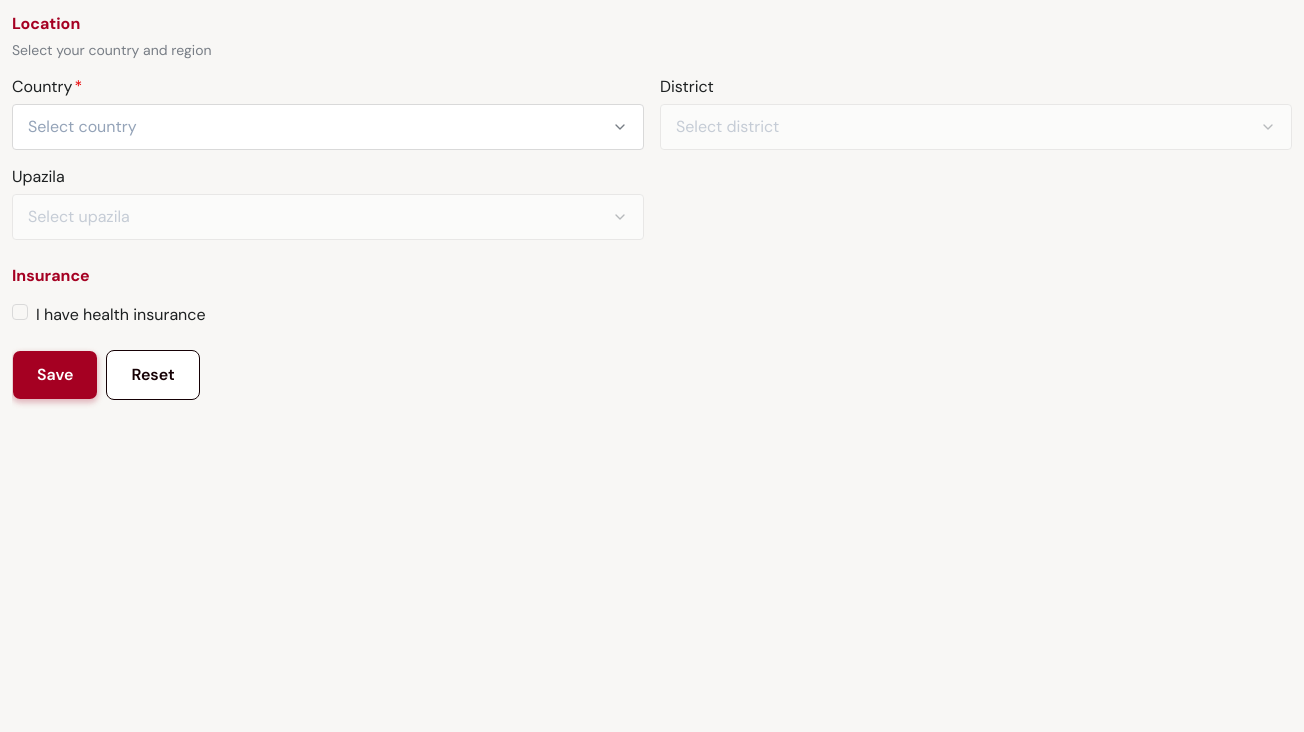
Test: ConditionalForm › shows insurance details block when hasInsurance is checked
This screenshot has width=1304, height=732.
Click the checkbox named "i have health insurance" at (20, 312), box [12, 304, 28, 320]
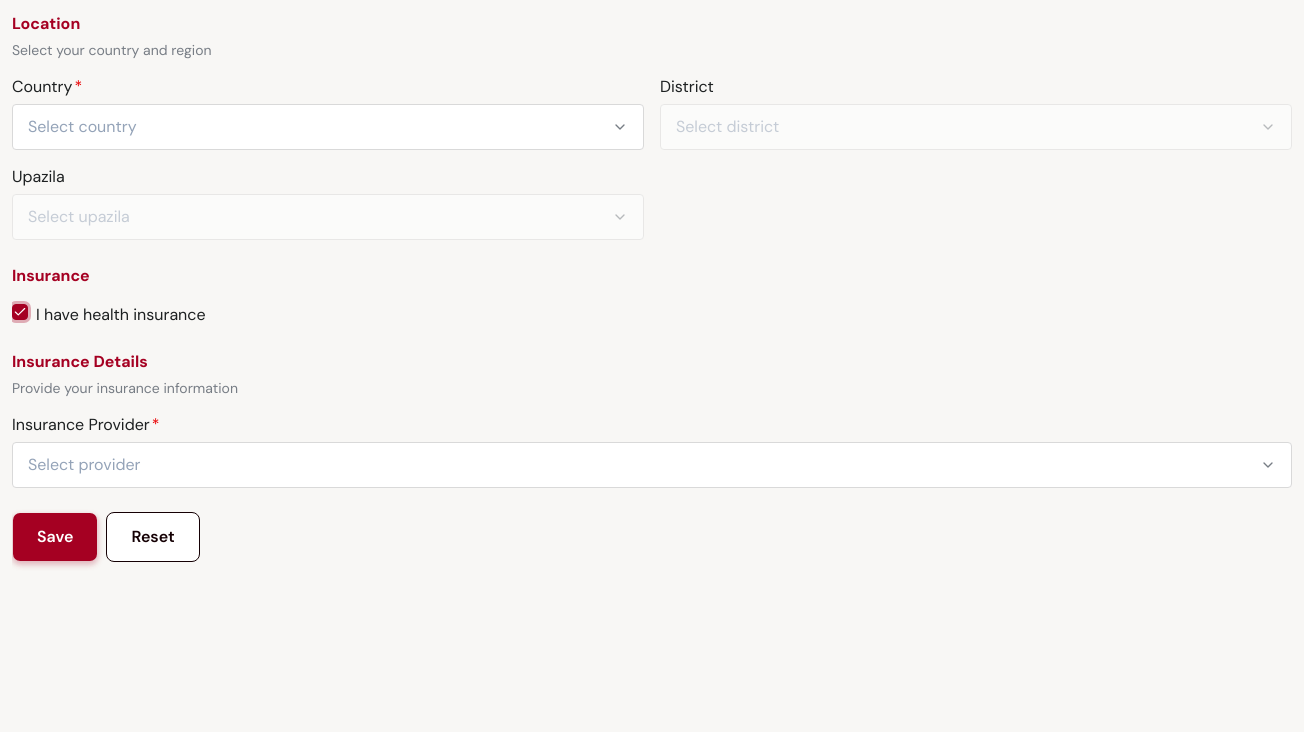
Check: the heading "Insurance Details" is shown, box [12, 351, 148, 372]
